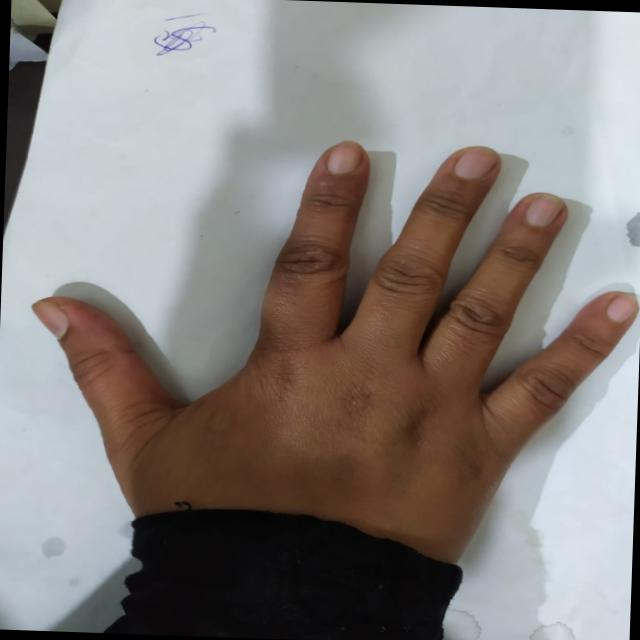Nail: (32, 298, 68, 338), (454, 146, 498, 177), (525, 193, 564, 226), (327, 139, 364, 173), (606, 291, 639, 322)
